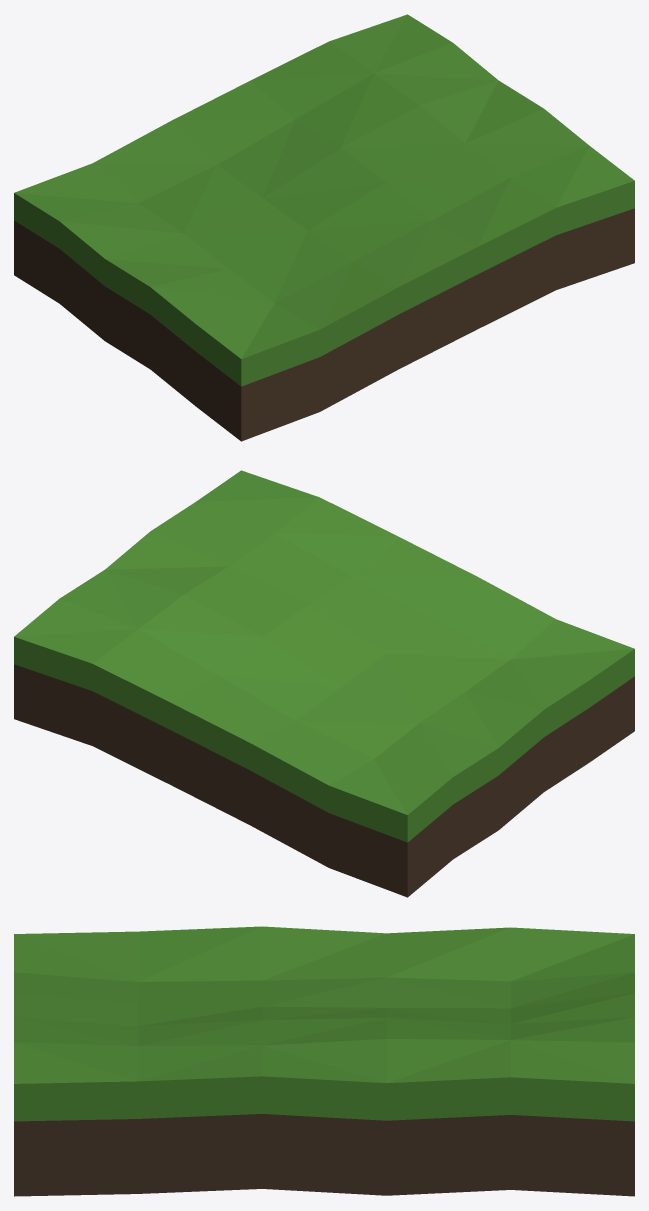
File: terrains-terrain-world-slope4.glb
3 renders of one model, top to bottom at view 1: azimuth 30°, elevation 25°; view 2: azimuth 150°, elevation 25°; view 3: azimuth 270°, elevation 25°, orthographic. The views are drawn at different scales.
Parts seen in each view (by area): view 1: terrain-world-slope4; view 2: terrain-world-slope4; view 3: terrain-world-slope4.
Part boxes in pixels (<box>): terrain-world-slope4: <box>14,14,634,441</box>; terrain-world-slope4: <box>14,470,634,897</box>; terrain-world-slope4: <box>14,926,634,1196</box>.
Size of the model in its own units: 30 by 12.4 by 30.
